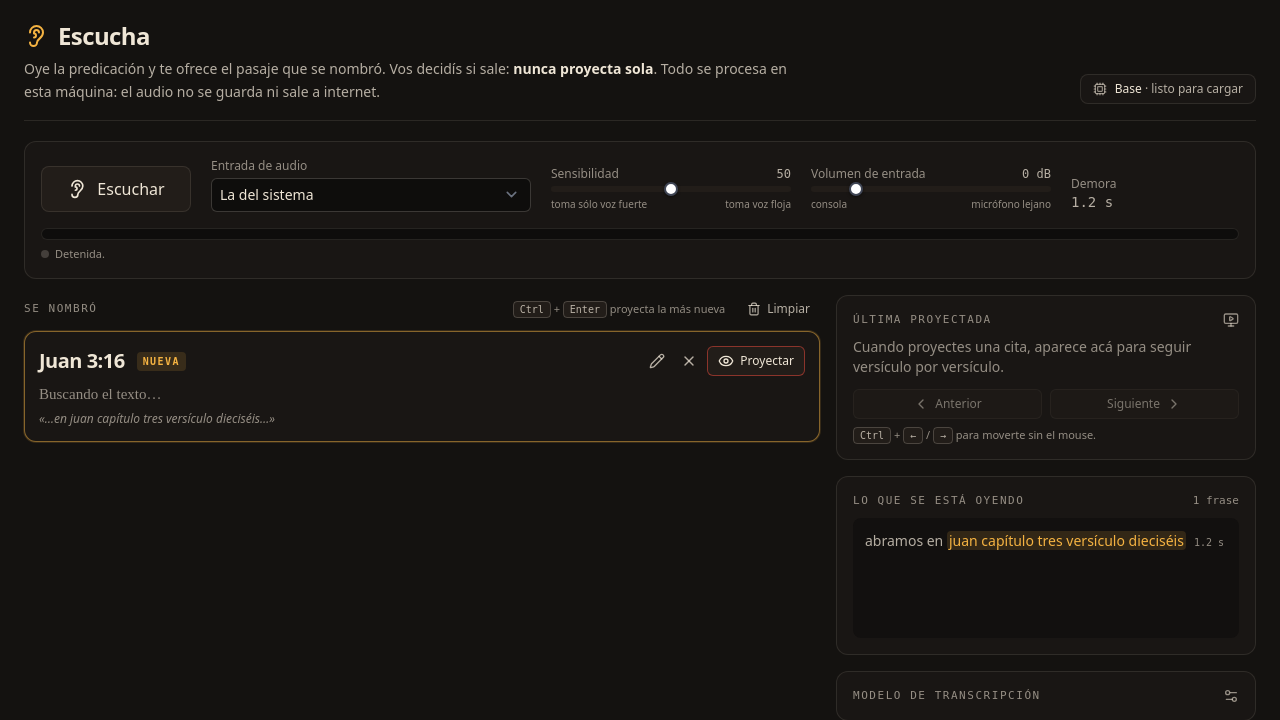
Test: sección Escucha › proyecta recién cuando el operador aprieta Proyectar
The image size is (1280, 720).
Check: the text "Juan 3:16" is shown, box [39,347,125,375]
Step 1. Click the button "Proyectar" → (756, 361), box [707,346,805,376]
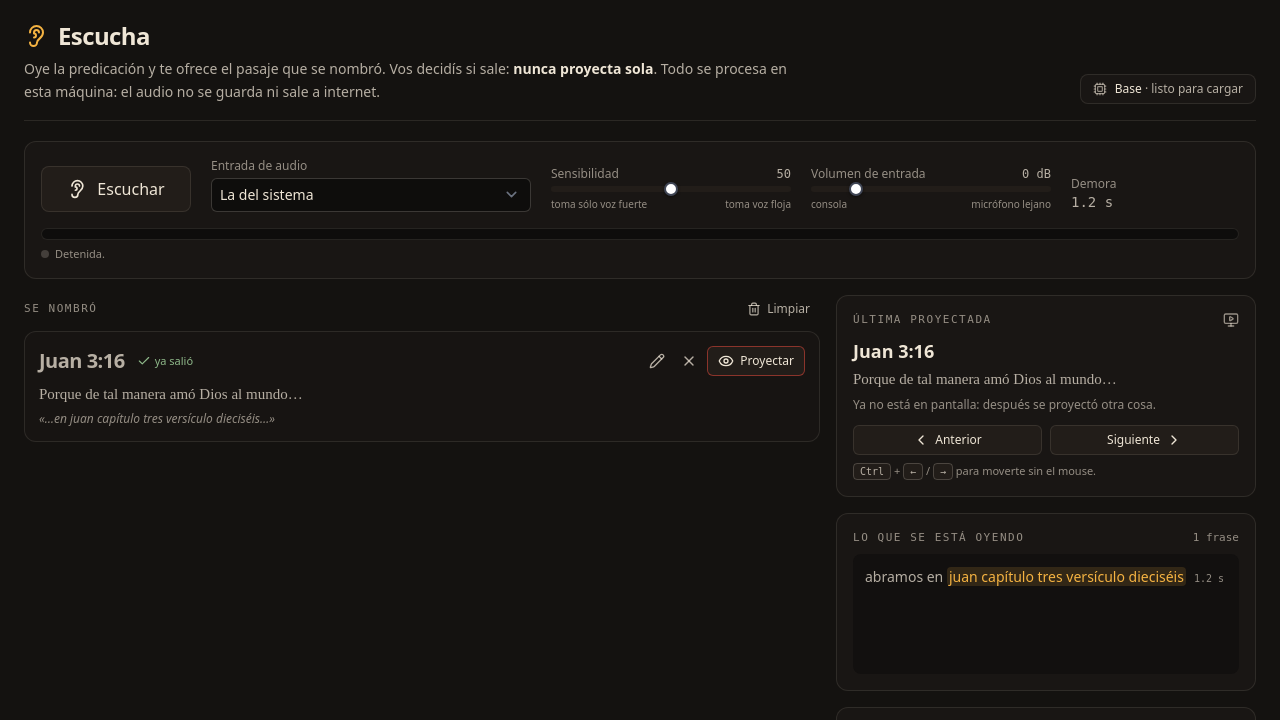
Check: the text "ya salió" is shown, box [137,353,193,369]
